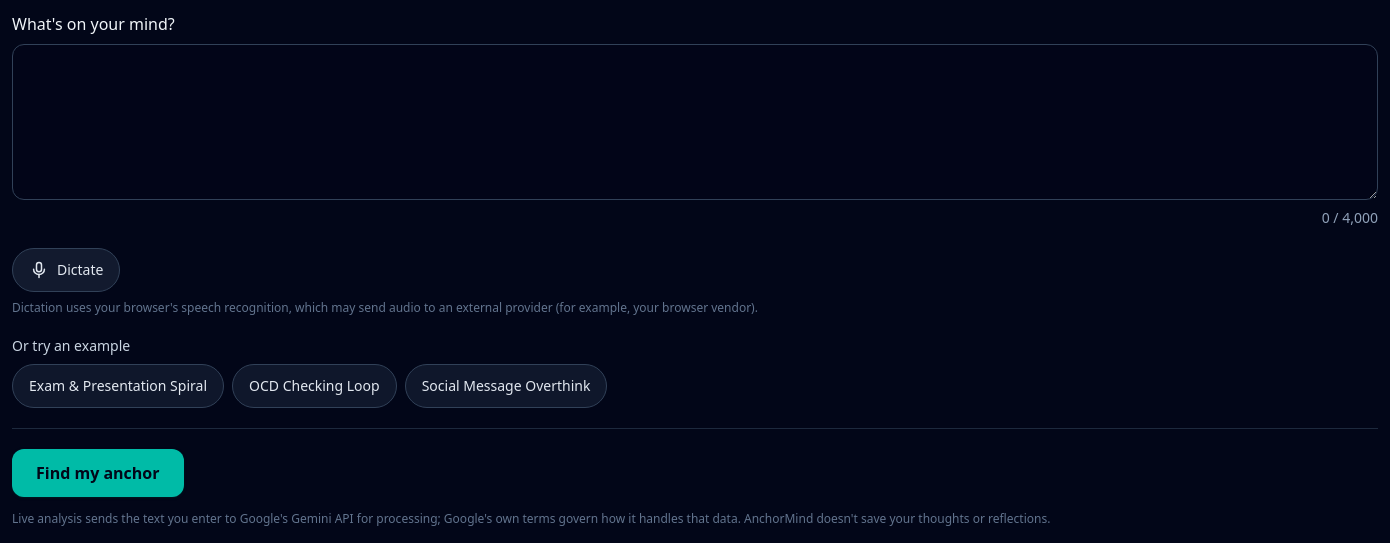
Test case: ThoughtInputPanel › shows inline validation for empty input
This screenshot has width=1390, height=543.
Click the button "Find my anchor" at (98, 473), box [12,449,184,497]
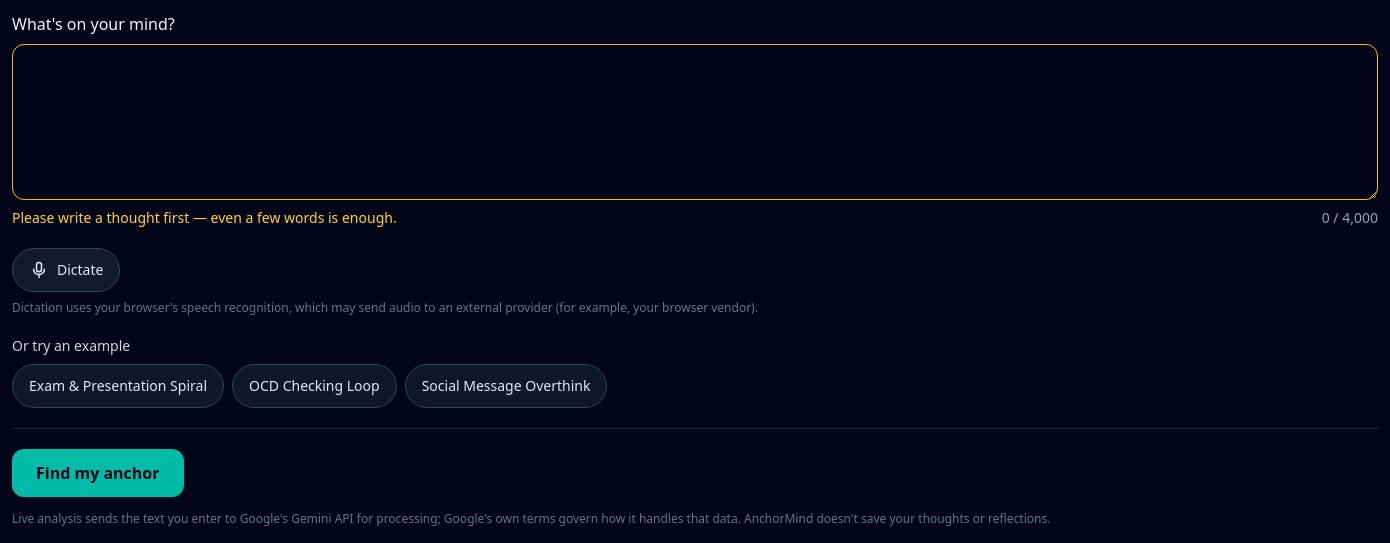
Expected: the message shows "write a thought", [12,208,397,227]
